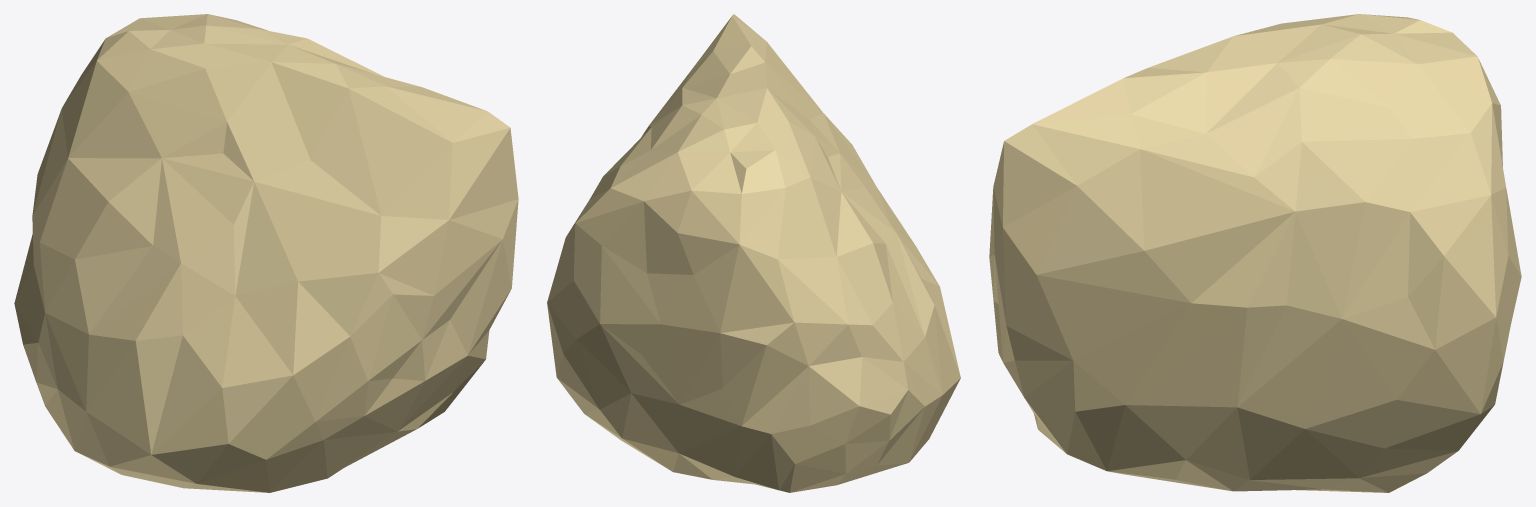
Rendered from Asteroid (77).fbx.
3 renders of one model, left to right at view 1: azimuth 30°, elevation 25°; view 2: azimuth 150°, elevation 25°; view 3: azimuth 270°, elevation 25°, orthographic. The views are drawn at different scales.
Visible parts, largest first — view 1: Asteroid200; view 2: Asteroid200; view 3: Asteroid200.
Part boxes in pixels (box(x1,y1,x2,y2)): Asteroid200: box(14, 14, 518, 492); Asteroid200: box(547, 14, 960, 492); Asteroid200: box(989, 14, 1521, 492).
Size of the model in its own units: 469 by 507 by 547.
